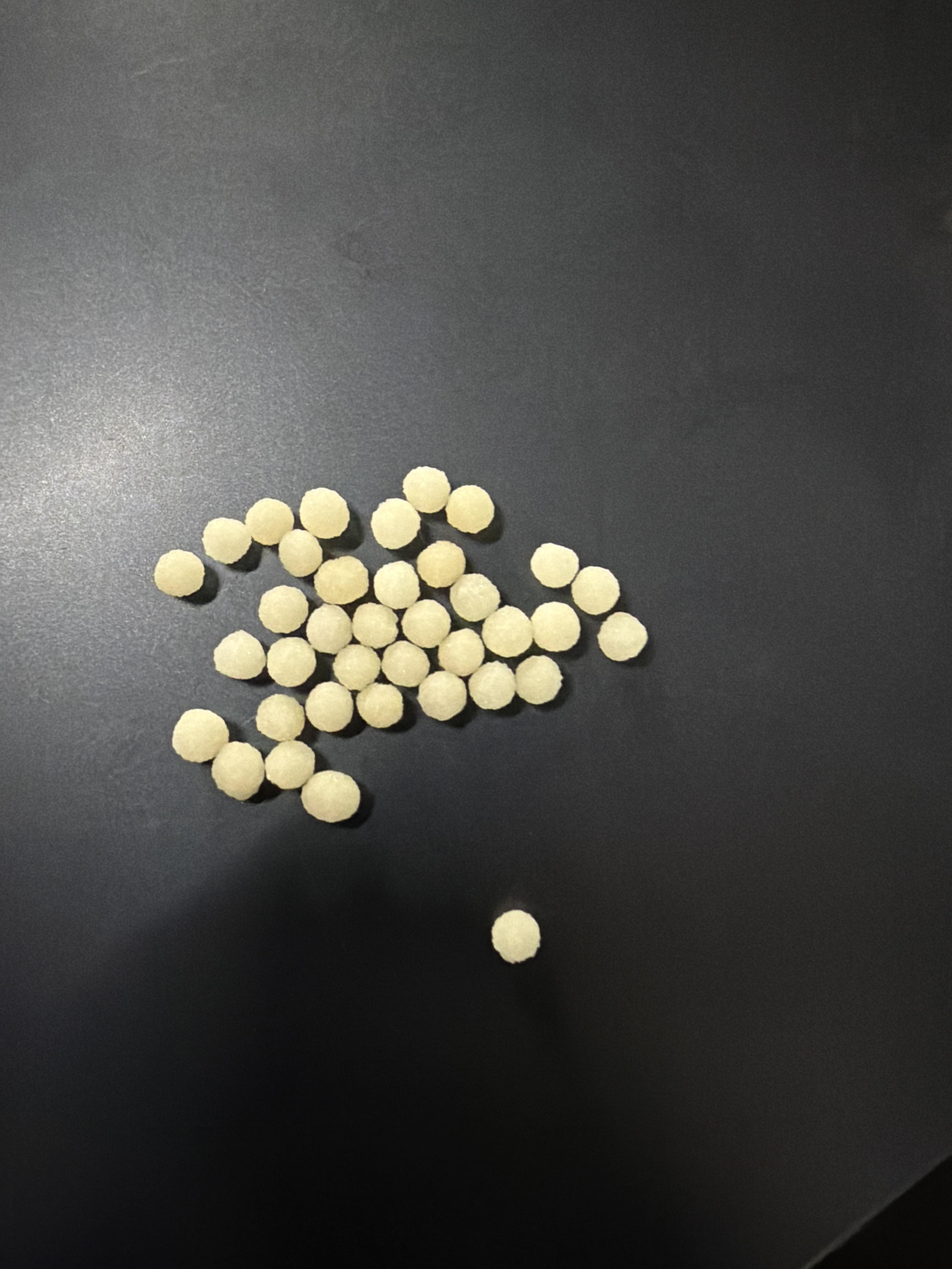pill: (211, 742, 264, 801), (301, 770, 360, 822), (172, 708, 228, 762), (314, 556, 369, 605), (213, 630, 266, 680), (299, 487, 349, 539), (491, 910, 540, 963), (482, 606, 532, 657), (264, 739, 315, 789), (371, 498, 420, 550), (598, 612, 648, 662), (305, 681, 353, 733), (531, 602, 581, 651), (418, 670, 467, 720), (450, 573, 500, 622), (267, 637, 316, 687), (258, 585, 308, 634), (571, 566, 620, 615), (416, 540, 465, 589), (154, 550, 205, 597), (446, 485, 495, 533), (256, 693, 304, 742), (402, 600, 450, 648), (515, 656, 562, 705), (468, 661, 515, 710), (245, 498, 294, 545), (373, 560, 419, 610), (306, 604, 352, 654), (382, 640, 430, 687), (333, 643, 380, 691), (530, 543, 579, 589), (202, 519, 252, 564), (403, 466, 450, 513), (438, 629, 484, 677), (278, 529, 323, 577), (356, 683, 403, 728), (352, 603, 398, 648)
